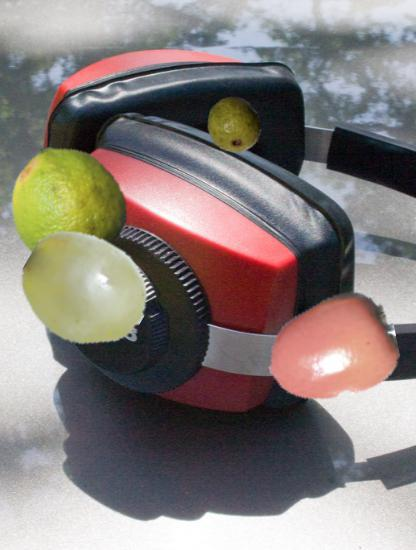Grape: (20, 226, 150, 356)
Guava: (205, 96, 263, 154)
Kaki: (266, 282, 397, 413)
Limes: (7, 144, 128, 265)
